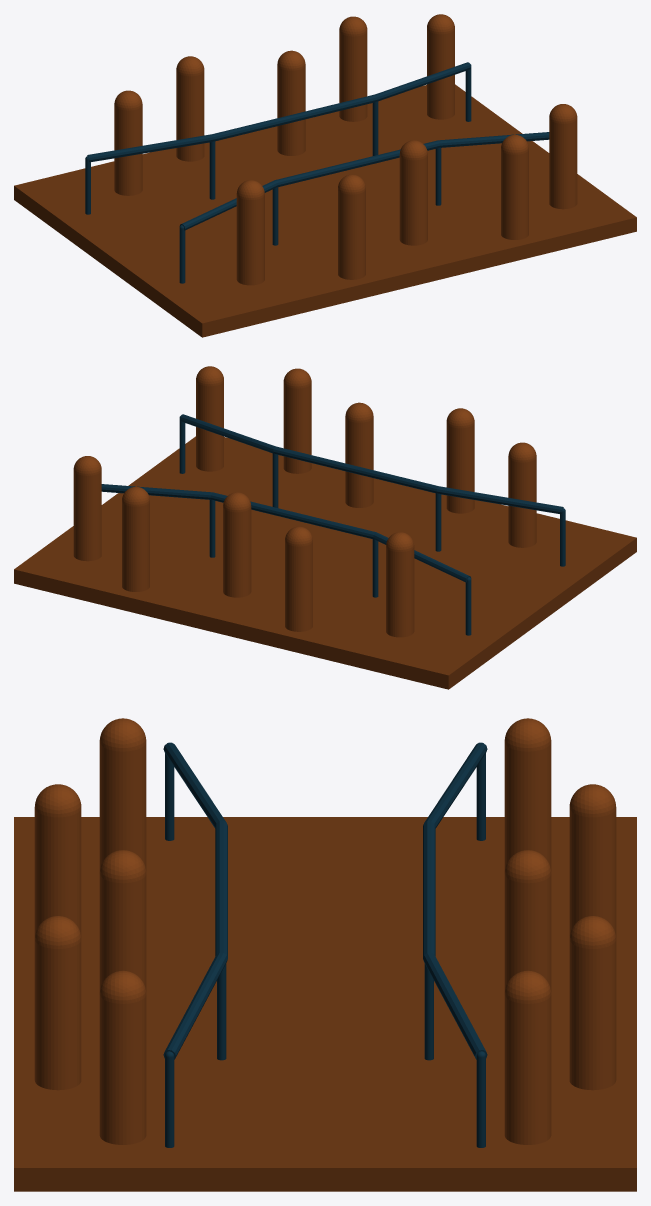
Rendered from rail_grove.glb.
The picture shows the model from 3 angles, top to bottom: view 1: azimuth 30°, elevation 25°; view 2: azimuth 150°, elevation 25°; view 3: azimuth 270°, elevation 25°; orthographic projection. The views are drawn at different scales.
Visible parts, largest first — view 1: floor:pbr, rail:pbr, pillar0:pbr, pillar4:pbr, pillar8:pbr, pillar2:pbr, pillar6:pbr, pillar3:pbr, pillar1:pbr, pillar5:pbr, pillar7:pbr, rail_post:pbr (+1 smaller); view 2: floor:pbr, rail:pbr, pillar1:pbr, pillar5:pbr, pillar9:pbr, pillar3:pbr, pillar7:pbr, pillar2:pbr, pillar0:pbr, pillar4:pbr, pillar6:pbr, rail_post:pbr (+1 smaller); view 3: floor:pbr, rail:pbr, pillar8:pbr, pillar9:pbr, pillar6:pbr, pillar7:pbr, pillar0:pbr, pillar1:pbr, pillar2:pbr, pillar3:pbr, pillar4:pbr, pillar5:pbr (+1 smaller).
Part boxes in pixels (bbox=[...]): floor:pbr: bbox=[14, 84, 636, 337]; rail:pbr: bbox=[87, 62, 549, 230]; pillar0:pbr: bbox=[236, 180, 264, 285]; pillar4:pbr: bbox=[399, 140, 427, 245]; pillar8:pbr: bbox=[549, 104, 577, 209]; pillar2:pbr: bbox=[338, 174, 365, 279]; pillar6:pbr: bbox=[501, 134, 528, 239]; pillar3:pbr: bbox=[176, 56, 204, 161]; pillar1:pbr: bbox=[114, 90, 142, 195]; pillar5:pbr: bbox=[277, 50, 305, 155]; pillar7:pbr: bbox=[339, 16, 367, 121]; rail_post:pbr: bbox=[85, 64, 471, 283]; floor:pbr: bbox=[14, 436, 636, 689]; rail:pbr: bbox=[101, 414, 563, 582]; pillar1:pbr: bbox=[386, 532, 414, 637]; pillar5:pbr: bbox=[223, 492, 251, 597]; pillar9:pbr: bbox=[73, 456, 101, 561]; pillar3:pbr: bbox=[285, 526, 312, 631]; pillar7:pbr: bbox=[122, 486, 149, 591]; pillar2:pbr: bbox=[446, 408, 474, 513]; pillar0:pbr: bbox=[508, 442, 536, 547]; pillar4:pbr: bbox=[345, 402, 373, 507]; pillar6:pbr: bbox=[283, 368, 311, 473]; rail_post:pbr: bbox=[179, 416, 565, 635]; floor:pbr: bbox=[14, 817, 636, 1191]; rail:pbr: bbox=[163, 742, 487, 1059]; pillar8:pbr: bbox=[99, 970, 146, 1144]; pillar9:pbr: bbox=[504, 970, 551, 1144]; pillar6:pbr: bbox=[34, 916, 81, 1090]; pillar7:pbr: bbox=[569, 916, 616, 1090]; pillar0:pbr: bbox=[99, 718, 146, 870]; pillar1:pbr: bbox=[504, 718, 551, 870]; pillar2:pbr: bbox=[34, 784, 81, 937]; pillar3:pbr: bbox=[569, 784, 616, 937]; pillar4:pbr: bbox=[99, 850, 146, 991]; pillar5:pbr: bbox=[504, 850, 551, 991].
Bounding box in the file's own units: 32 × 7.9 × 24.
